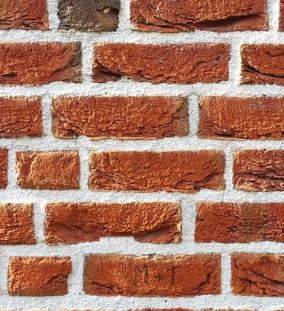brick: (94, 41, 236, 85), (85, 252, 220, 296), (44, 204, 184, 246), (52, 96, 188, 137), (91, 151, 228, 190), (130, 1, 266, 32), (195, 93, 284, 140), (192, 201, 284, 242), (1, 40, 85, 84), (17, 149, 80, 192), (7, 258, 75, 297), (231, 249, 284, 295), (234, 148, 284, 191), (240, 42, 284, 86), (1, 92, 45, 135), (61, 1, 120, 33), (1, 1, 51, 33), (1, 203, 35, 239)
